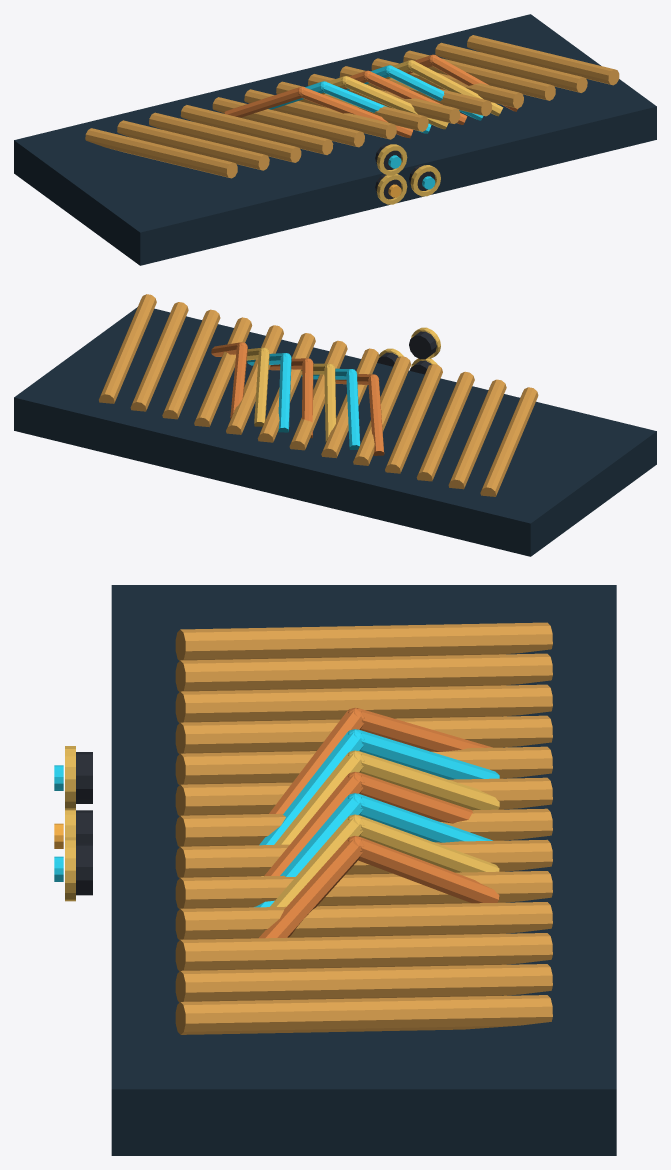
Rendered from 13_L82_ChassisEquipotentialBondingGrid.fbx.
The picture shows the model from 3 angles, top to bottom: view 1: azimuth 30°, elevation 25°; view 2: azimuth 150°, elevation 25°; view 3: azimuth 270°, elevation 25°; orthographic projection. The views are drawn at different scales.
Visible parts, largest first — view 1: ChassisEquipotentialBondingGrid, ChassisEquipotentialBondingGrid_Part_0015, ChassisEquipotentialBondingGrid_Part_0021, ChassisEquipotentialBondingGrid_Part_0030, ChassisEquipotentialBondingGrid_Part_0014, ChassisEquipotentialBondingGrid_Part_0027, ChassisEquipotentialBondingGrid_Part_0024, ChassisEquipotentialBondingGrid_Part_0018, ChassisEquipotentialBondingGrid_Part_0033; view 2: ChassisEquipotentialBondingGrid, ChassisEquipotentialBondingGrid_Part_0017, ChassisEquipotentialBondingGrid_Part_0026, ChassisEquipotentialBondingGrid_Part_0029, ChassisEquipotentialBondingGrid_Part_0014, ChassisEquipotentialBondingGrid_Part_0020, ChassisEquipotentialBondingGrid_Part_0032, ChassisEquipotentialBondingGrid_Part_0023; view 3: ChassisEquipotentialBondingGrid, ChassisEquipotentialBondingGrid_Part_0032, ChassisEquipotentialBondingGrid_Part_0020, ChassisEquipotentialBondingGrid_Part_0029, ChassisEquipotentialBondingGrid_Part_0033, ChassisEquipotentialBondingGrid_Part_0017, ChassisEquipotentialBondingGrid_Part_0026, ChassisEquipotentialBondingGrid_Part_0023, ChassisEquipotentialBondingGrid_Part_0014, ChassisEquipotentialBondingGrid_Part_0018, ChassisEquipotentialBondingGrid_Part_0024, ChassisEquipotentialBondingGrid_Part_0015 (+3 smaller).
Part boxes in pixels (x1,y1,x2,y2): ChassisEquipotentialBondingGrid: (14, 14, 656, 265); ChassisEquipotentialBondingGrid_Part_0015: (300, 87, 412, 138); ChassisEquipotentialBondingGrid_Part_0021: (344, 76, 448, 129); ChassisEquipotentialBondingGrid_Part_0030: (409, 61, 503, 116); ChassisEquipotentialBondingGrid_Part_0014: (224, 87, 301, 117); ChassisEquipotentialBondingGrid_Part_0027: (387, 66, 483, 120); ChassisEquipotentialBondingGrid_Part_0024: (365, 71, 467, 124); ChassisEquipotentialBondingGrid_Part_0018: (322, 82, 431, 133); ChassisEquipotentialBondingGrid_Part_0033: (431, 55, 517, 111); ChassisEquipotentialBondingGrid: (14, 294, 656, 556); ChassisEquipotentialBondingGrid_Part_0017: (346, 371, 360, 449); ChassisEquipotentialBondingGrid_Part_0026: (278, 355, 291, 432); ChassisEquipotentialBondingGrid_Part_0029: (254, 350, 269, 426); ChassisEquipotentialBondingGrid_Part_0014: (368, 376, 384, 455); ChassisEquipotentialBondingGrid_Part_0020: (324, 366, 336, 442); ChassisEquipotentialBondingGrid_Part_0032: (230, 344, 247, 418); ChassisEquipotentialBondingGrid_Part_0023: (302, 360, 313, 438); ChassisEquipotentialBondingGrid: (54, 585, 616, 1155); ChassisEquipotentialBondingGrid_Part_0032: (358, 836, 499, 903); ChassisEquipotentialBondingGrid_Part_0020: (358, 751, 499, 810); ChassisEquipotentialBondingGrid_Part_0029: (358, 815, 499, 872); ChassisEquipotentialBondingGrid_Part_0033: (259, 839, 362, 938); ChassisEquipotentialBondingGrid_Part_0017: (357, 729, 499, 779); ChassisEquipotentialBondingGrid_Part_0026: (358, 793, 492, 842); ChassisEquipotentialBondingGrid_Part_0023: (358, 772, 472, 823); ChassisEquipotentialBondingGrid_Part_0014: (357, 708, 492, 751); ChassisEquipotentialBondingGrid_Part_0018: (259, 732, 363, 845); ChassisEquipotentialBondingGrid_Part_0024: (264, 775, 363, 876); ChassisEquipotentialBondingGrid_Part_0015: (269, 711, 363, 813).
Bounding box in the file's own units: 260 × 38.5 × 122.
